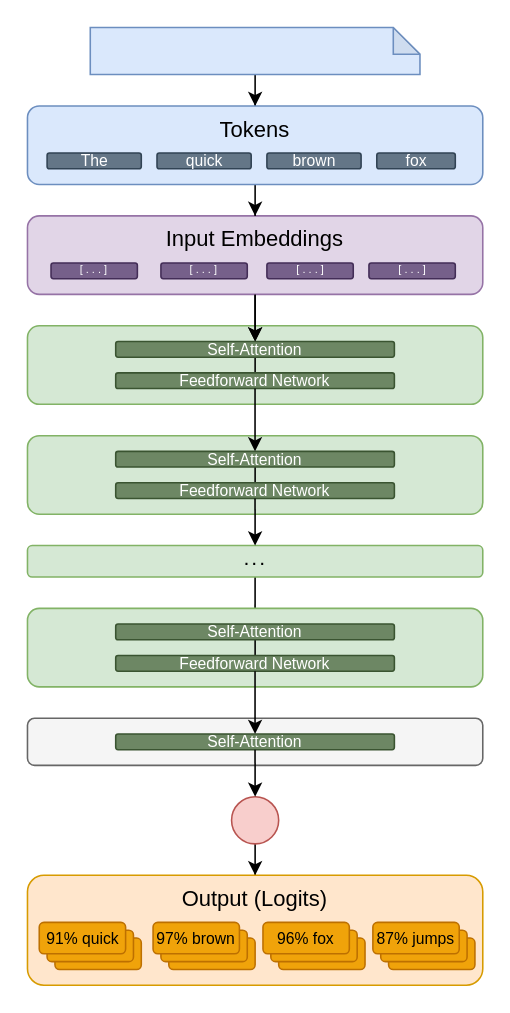
This 510x1013 diagram has some shape labels left out. The shapes that lost their labels are listed below. From the top down, each one's centre as x and y in pixels, then its label:
(254,50): "The quick brown fox"
(254,819): W out
